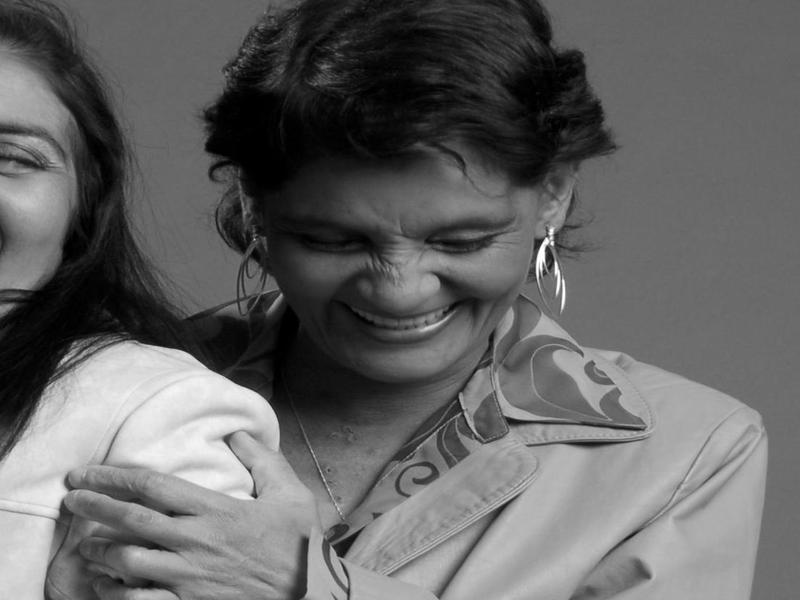person: (196, 15, 769, 600), (1, 4, 306, 598)
